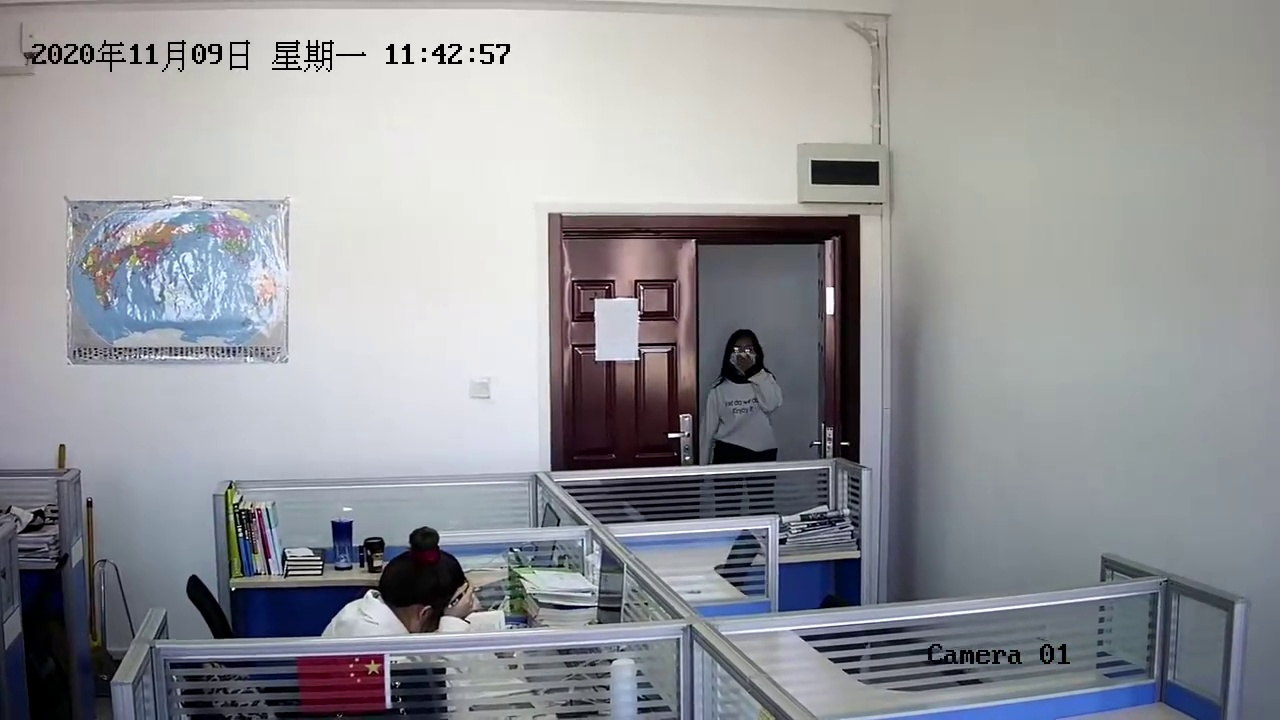mask: (723, 332, 765, 374)
